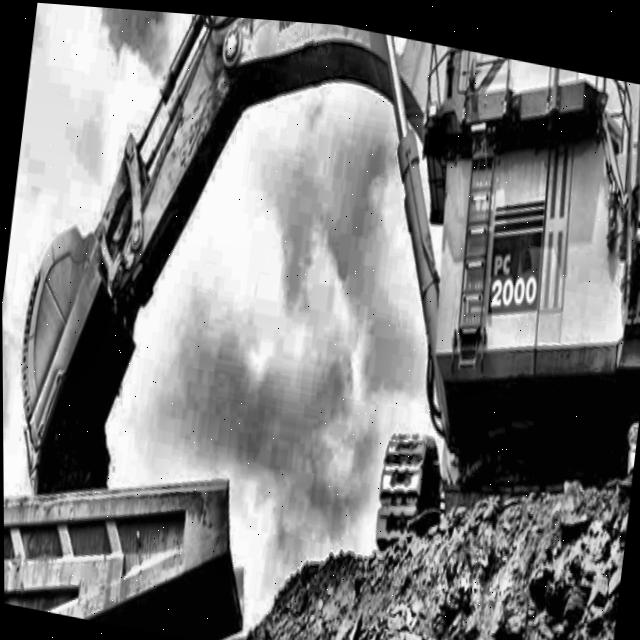dump_truck: (3, 438, 251, 640)
excavator: (0, 0, 640, 531)
